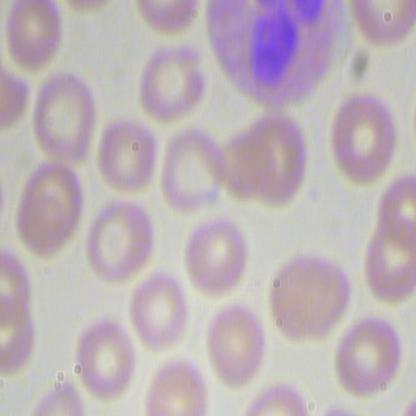RBC: (266, 246, 354, 341), (329, 92, 400, 192), (15, 157, 86, 257), (330, 307, 401, 406), (29, 68, 99, 167), (86, 196, 153, 287), (183, 208, 249, 299), (200, 299, 266, 390), (136, 40, 207, 123), (159, 127, 229, 210), (129, 270, 191, 354), (74, 317, 136, 401), (96, 114, 158, 198)
WBC: (204, 1, 349, 113)
